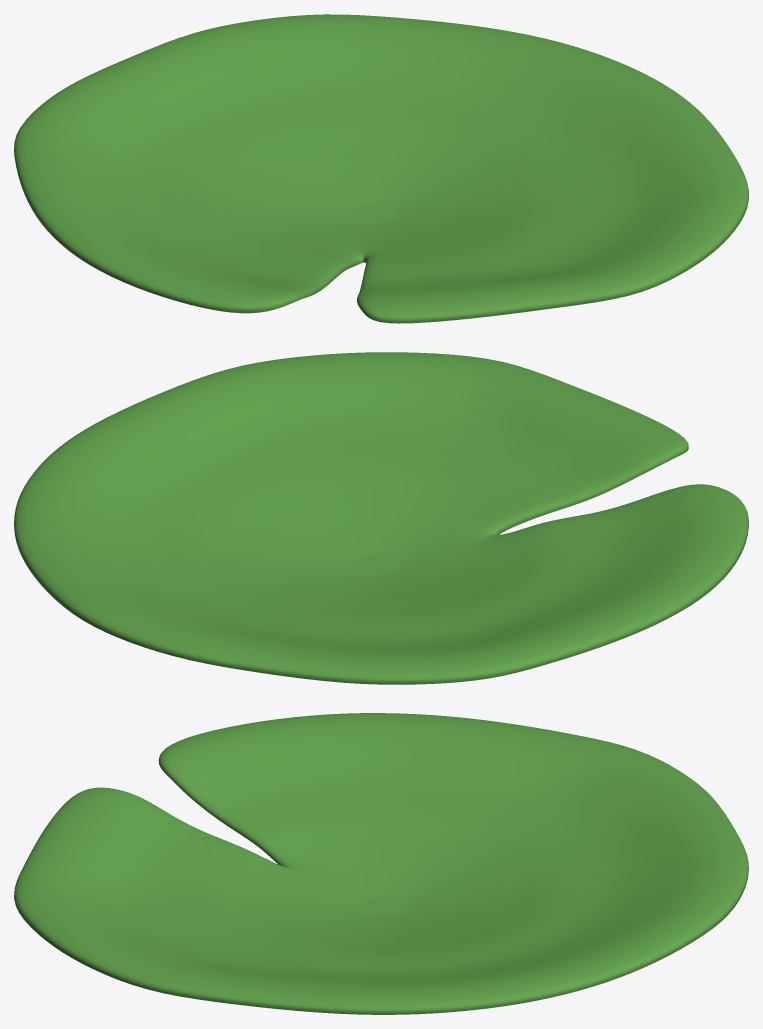
The model's file is leave (1).fbx.
3 views of the same model, one above another, from view 1: azimuth 30°, elevation 25°; view 2: azimuth 150°, elevation 25°; view 3: azimuth 270°, elevation 25° (orthographic). The views are drawn at different scales.
Visible parts, largest first — view 1: 圆盘; view 2: 圆盘; view 3: 圆盘.
Part boxes in pixels (box(x1,y1,x2,y2)): 圆盘: box(14, 14, 748, 323); 圆盘: box(14, 352, 748, 684); 圆盘: box(14, 713, 748, 1014).
Size of the model in its own units: 466 by 37.52 by 488.
